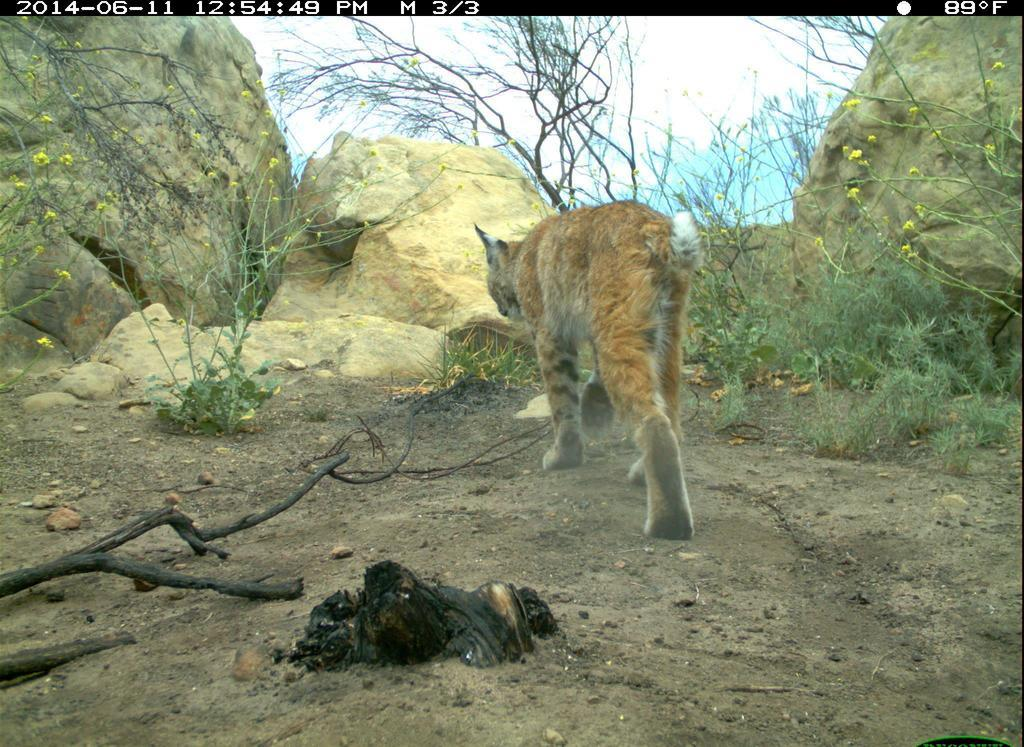bobcat: (461, 191, 722, 562)
